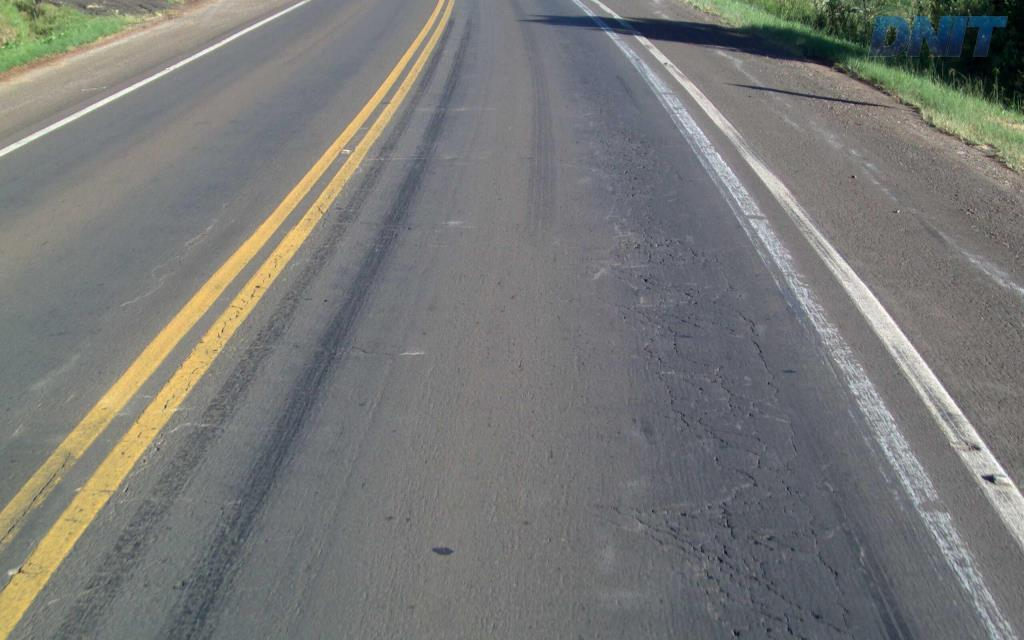crack: (743, 560, 793, 605), (748, 586, 783, 639), (808, 595, 849, 634)
